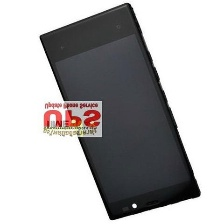phone: (36, 0, 204, 223)
